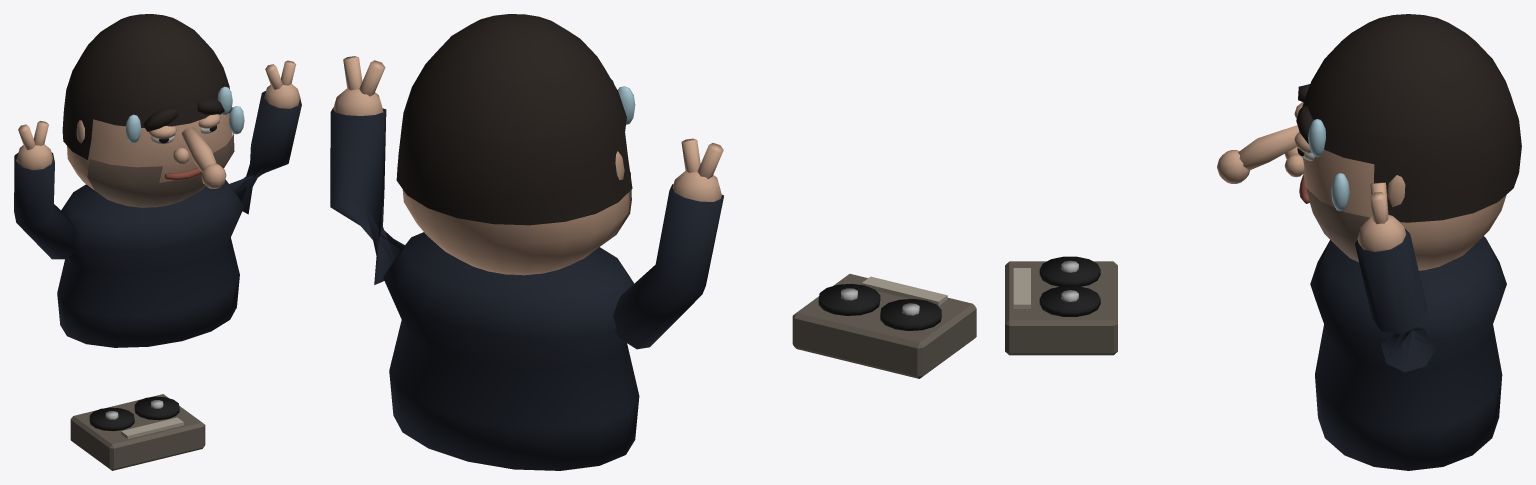
3 renders of one model, left to right at view 1: azimuth 30°, elevation 25°; view 2: azimuth 150°, elevation 25°; view 3: azimuth 270°, elevation 25°, orthographic. The views are drawn at different scales.
Parts seen in each view (by area): view 1: fig_body, fig_head, fig_props; view 2: fig_body, fig_head, fig_props; view 3: fig_head, fig_body, fig_props.
Boxes of the visible parts, <box> form: fig_body: <box>14,60,301,347</box>; fig_head: <box>62,14,244,207</box>; fig_props: <box>70,394,205,470</box>; fig_body: <box>330,56,723,470</box>; fig_head: <box>396,14,635,275</box>; fig_props: <box>792,274,976,378</box>; fig_head: <box>1217,14,1521,270</box>; fig_body: <box>1310,182,1506,470</box>; fig_props: <box>1005,256,1117,355</box>.
Size of the model in its own units: 1.17 by 1.01 by 1.19.
